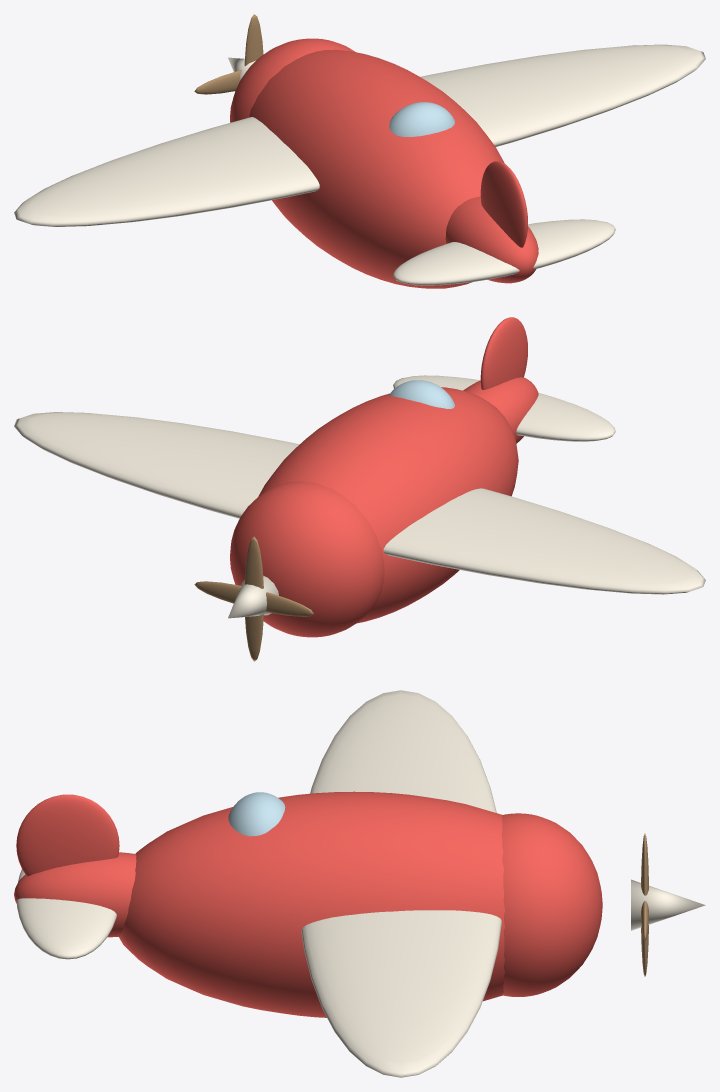
Rendered from biplane.glb.
The picture shows the model from 3 angles, top to bottom: view 1: azimuth 30°, elevation 25°; view 2: azimuth 150°, elevation 25°; view 3: azimuth 270°, elevation 25°; orthographic projection. The views are drawn at different scales.
Visible parts, largest first — view 1: Body, Propeller; view 2: Body, Propeller; view 3: Body, Propeller.
Part boxes in pixels (x1=…): Body: x1=14, y1=38, x2=705, y2=288; Propeller: x1=194, y1=14, x2=263, y2=94; Body: x1=14, y1=317, x2=705, y2=637; Propeller: x1=194, y1=536, x2=313, y2=661; Body: x1=14, y1=690, x2=602, y2=1077; Propeller: x1=631, y1=833, x2=705, y2=976.
Size of the model in its own units: 3.9 by 1 by 2.95.
